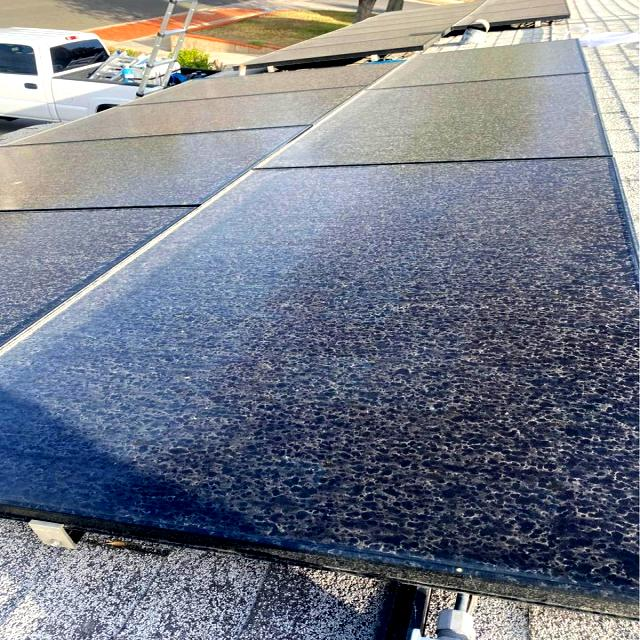dust: (358, 286, 638, 472), (109, 290, 267, 515), (400, 480, 640, 570), (359, 202, 631, 279), (270, 311, 352, 527), (0, 334, 93, 494), (36, 138, 226, 208), (368, 90, 572, 152), (249, 173, 344, 284), (378, 171, 610, 196), (4, 212, 61, 292)
